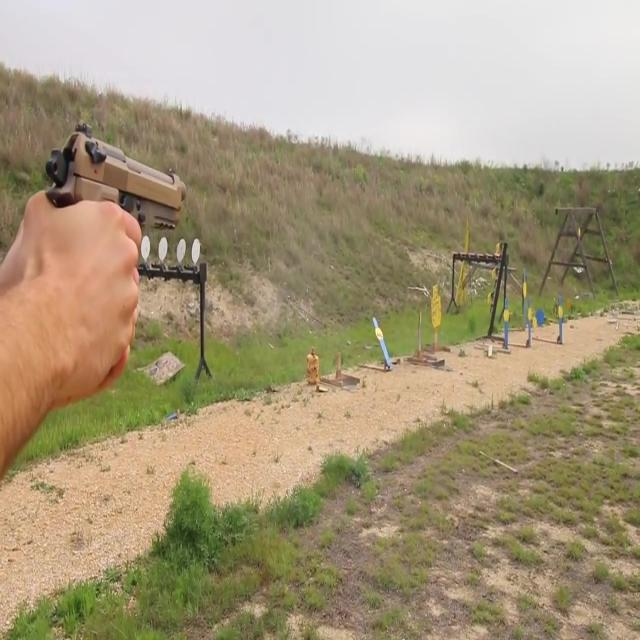Weapon: (21, 101, 235, 311)
